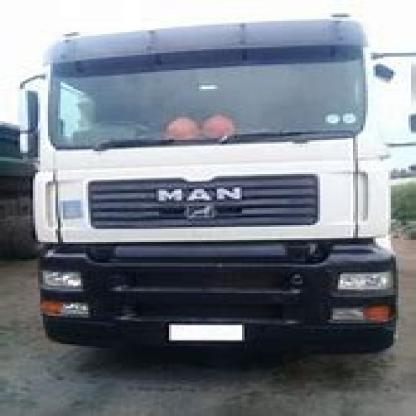dump_truck: (25, 12, 414, 372)
